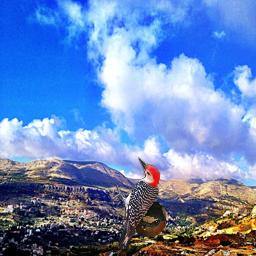Swallow: (135, 202, 166, 237)
Woodpecker: (110, 156, 160, 249)
